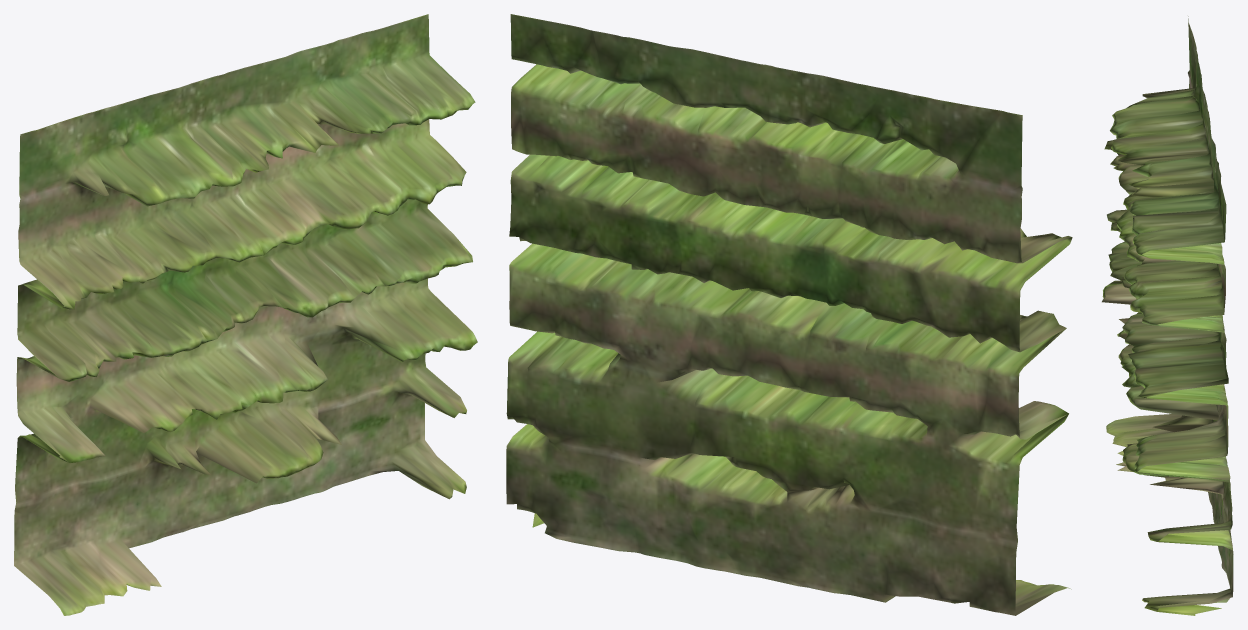
The model's file is map_200_70.obj.
3 views of the same model, side by side, from view 1: azimuth 30°, elevation 25°; view 2: azimuth 150°, elevation 25°; view 3: azimuth 270°, elevation 25° (orthographic). The views are drawn at different scales.
Size of the model in its own units: 10 by 10 by 2.91.
Materials: 1 (1 with a texture image).
